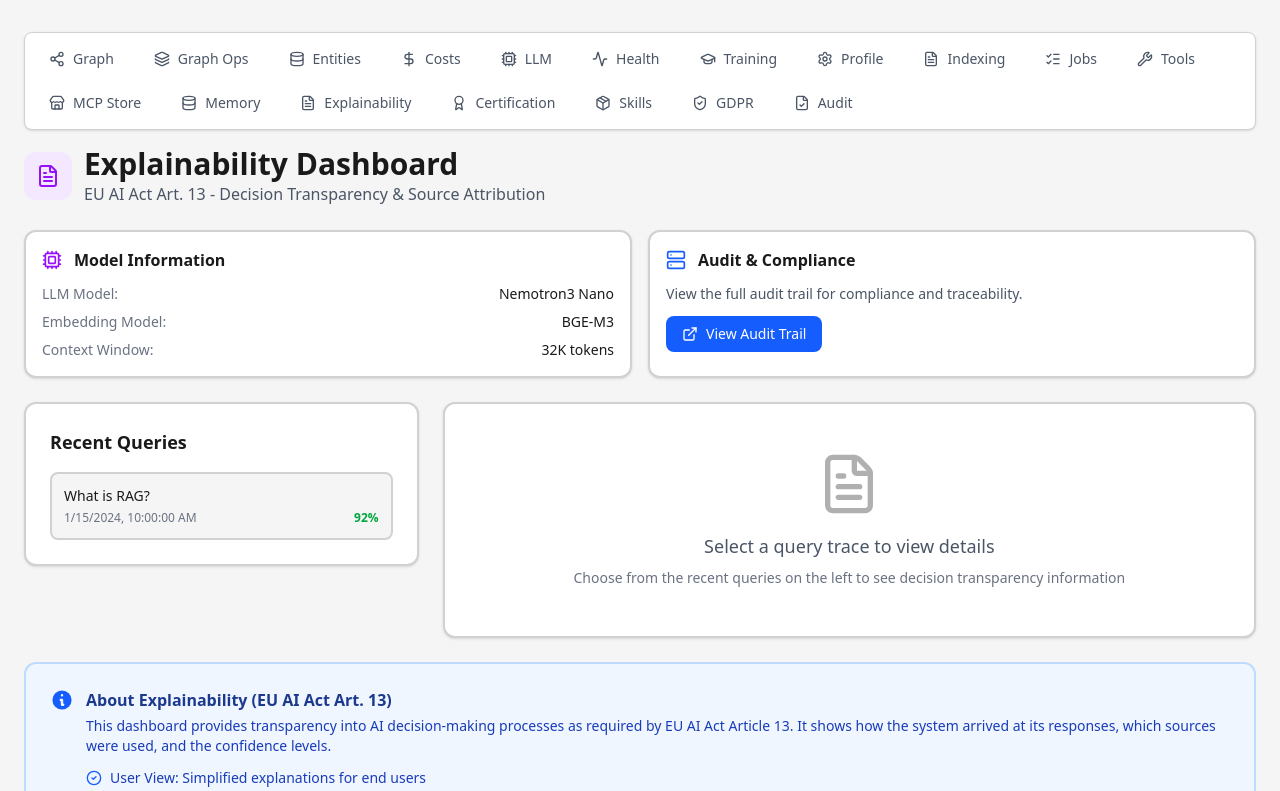
Scenario: ExplainabilityPage › should display technical details in expert mode
The image size is (1280, 791).
Check: the text "What is RAG?" is shown, box 64,486 -> 150,505
Click the button with test id "trace-item-trace-123" at (107, 496), box 50,472 -> 393,540
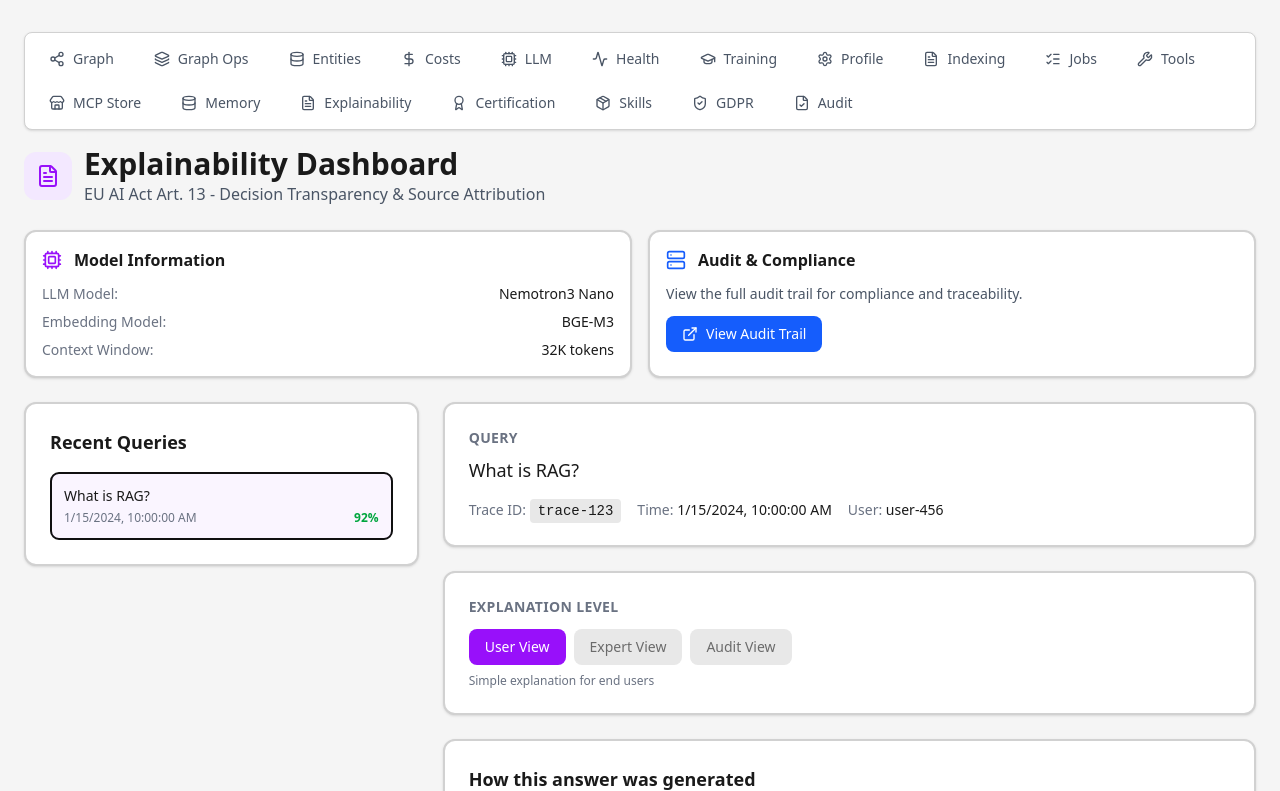
Check: the button with test id "level-expert" is shown
Click the button with test id "level-expert" at (628, 647), box 574,629 -> 682,665
(page scrolled)
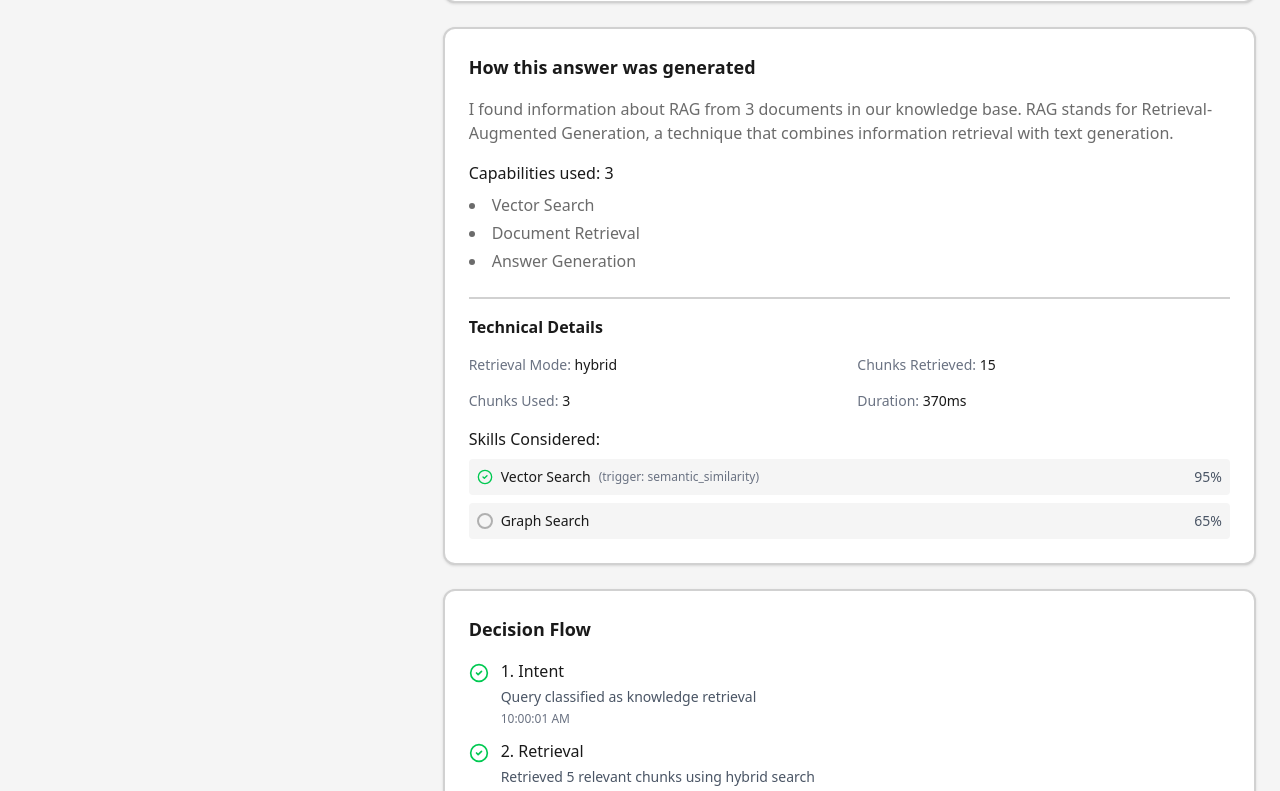
Check: the heading "Technical Details" is shown, box 469,316 -> 603,338
Check: the text "hybrid" is shown, box 575,355 -> 617,374
Check: the text "15" is shown, box 980,355 -> 996,374
